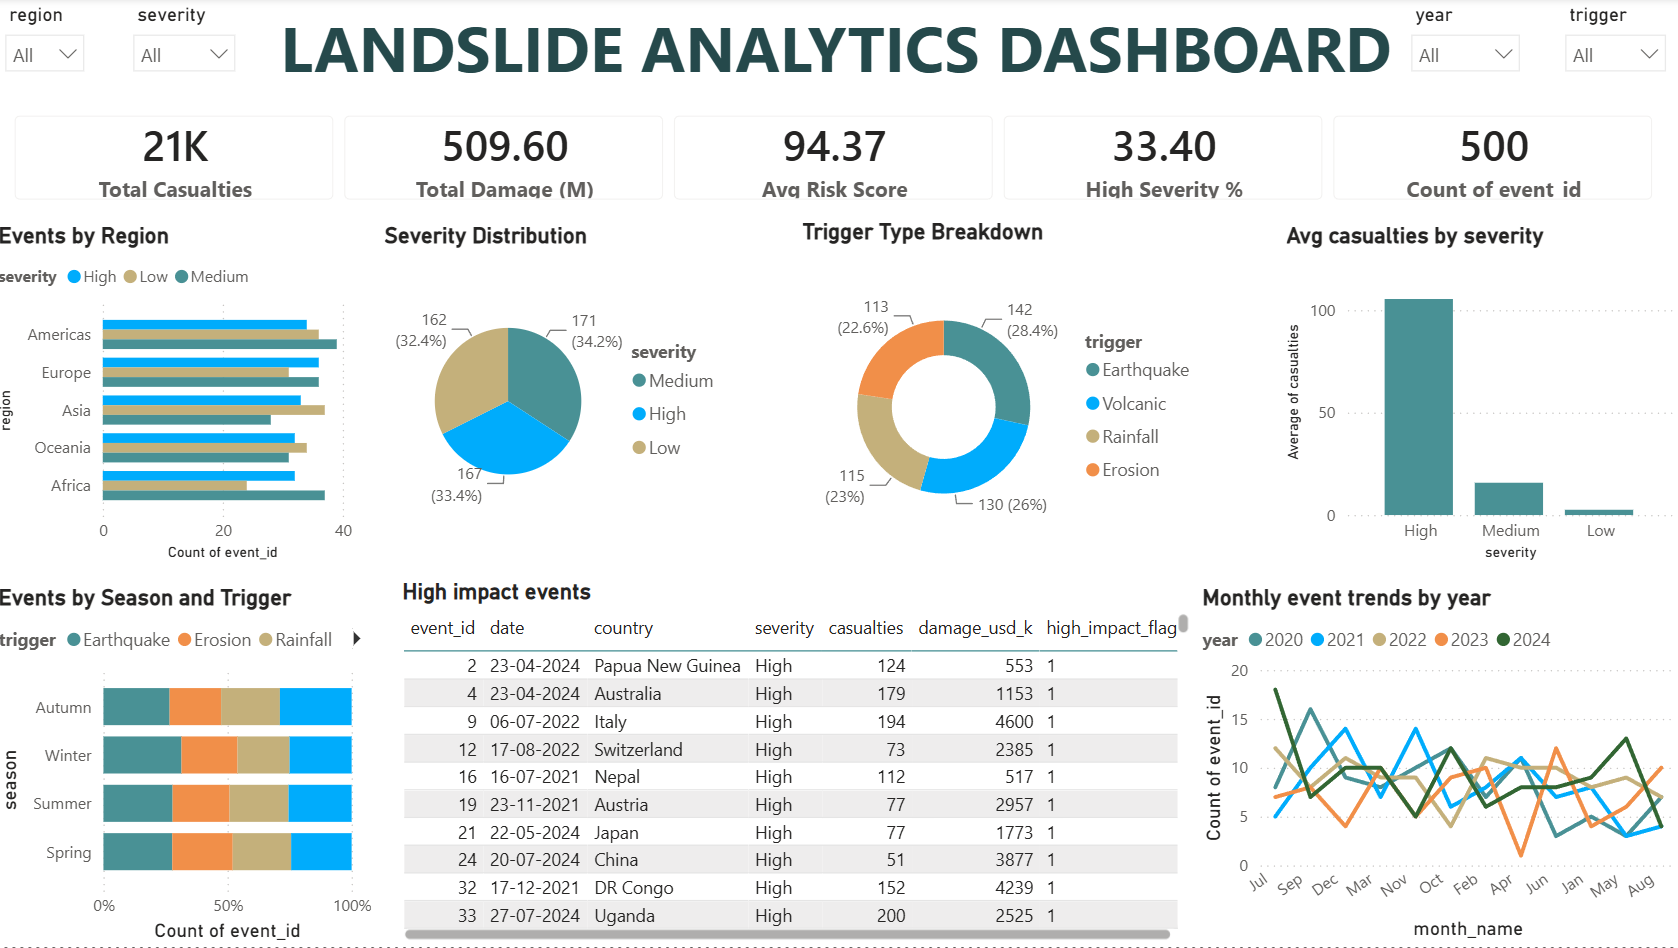

The dashboard page shown, as its layout file describes it:
{"tool":"powerbi","page":{"name":"Overview","canvas":[1280,720],"ordinal":0},"visuals":[{"type":"textbox","box":[0,0,1280,94],"z":0},{"type":"slicer","fields":{"Values":["landslide_raw_dataset.region"]},"box":[0,0,80.1,72.6],"z":1000},{"type":"slicer","fields":{"Values":["landslide_raw_dataset.severity"]},"box":[97.7,0,97.7,72.6],"z":2000},{"type":"slicer","fields":{"Values":["landslide_raw_dataset.trigger"]},"box":[1183.3,0,96.4,77.6],"z":3000},{"type":"slicer","fields":{"Values":["landslide_raw_dataset.year"]},"box":[1066.9,0,102.7,72.6],"z":4000},{"type":"cardVisual","fields":{"Data":["landslide_raw_dataset.Total Casualties","landslide_raw_dataset.Total Damage (M)","landslide_raw_dataset.Avg Risk Score","landslide_raw_dataset.High Severity %","CountNonNull(landslide_raw_dataset.event_id)"]},"box":[0,72.6,1279.7,98.9],"z":5000},{"type":"clusteredBarChart","title":"Events by Region","fields":{"Y":["CountNonNull(landslide_raw_dataset.event_id)"],"Category":["landslide_raw_dataset.region"],"Series":["landslide_raw_dataset.severity"]},"box":[0,171.5,278,260.5],"z":6000},{"type":"pieChart","title":"Severity Distribution","fields":{"Category":["landslide_raw_dataset.severity"],"Y":["CountNonNull(landslide_raw_dataset.event_id)"]},"box":[293,171.5,269.2,249.2],"z":7000},{"type":"donutChart","title":"Trigger Type Breakdown","fields":{"Category":["landslide_raw_dataset.trigger"],"Y":["CountNonNull(landslide_raw_dataset.event_id)"]},"box":[609.8,167.8,313,264.2],"z":8000},{"type":"columnChart","title":"Avg casualties by severity","fields":{"Category":["landslide_raw_dataset.severity"],"Y":["Avg(landslide_raw_dataset.casualties)"]},"box":[976.7,171.5,303,260.5],"z":9000},{"type":"hundredPercentStackedBarChart","title":"Events by Season and Trigger","fields":{"Category":["landslide_raw_dataset.season"],"Y":["CountNonNull(landslide_raw_dataset.event_id)"],"Series":["landslide_raw_dataset.trigger"]},"box":[0,445.9,292.7,274.5],"z":11000},{"type":"tableEx","title":"High impact events","fields":{"Values":["landslide_raw_dataset.event_id","landslide_raw_dataset.date","landslide_raw_dataset.country","landslide_raw_dataset.severity","landslide_raw_dataset.casualties","landslide_raw_dataset.damage_usd_k","landslide_raw_dataset.high_impact_flag"]},"box":[306.4,441.3,606.6,279.1],"z":12000},{"type":"lineChart","title":"Monthly event trends by year","fields":{"Category":["landslide_raw_dataset.month_name"],"Y":["CountNonNull(landslide_raw_dataset.event_id)"],"Series":["landslide_raw_dataset.year"]},"box":[913,445.9,368.5,273],"z":13000}]}

Visuals, with their boxes in screenshot pixels (x1, y1, x2, y2), scaled from the page's 1280x720 canvas onto the 1678x948 screenshot:
textbox: crop(0, 0, 1677, 124)
slicer - landslide_raw_dataset.region: crop(0, 0, 105, 96)
slicer - landslide_raw_dataset.severity: crop(128, 0, 256, 96)
slicer - landslide_raw_dataset.trigger: crop(1551, 0, 1677, 102)
slicer - landslide_raw_dataset.year: crop(1399, 0, 1533, 96)
cardVisual - landslide_raw_dataset.Total Casualties x landslide_raw_dataset.Total Damage (M): crop(0, 96, 1677, 226)
"Events by Region" clusteredBarChart: crop(0, 226, 364, 569)
"Severity Distribution" pieChart: crop(384, 226, 737, 554)
"Trigger Type Breakdown" donutChart: crop(799, 221, 1210, 569)
"Avg casualties by severity" columnChart: crop(1280, 226, 1677, 569)
"Events by Season and Trigger" hundredPercentStackedBarChart: crop(0, 587, 384, 947)
"High impact events" tableEx: crop(402, 581, 1197, 947)
"Monthly event trends by year" lineChart: crop(1197, 587, 1677, 947)
